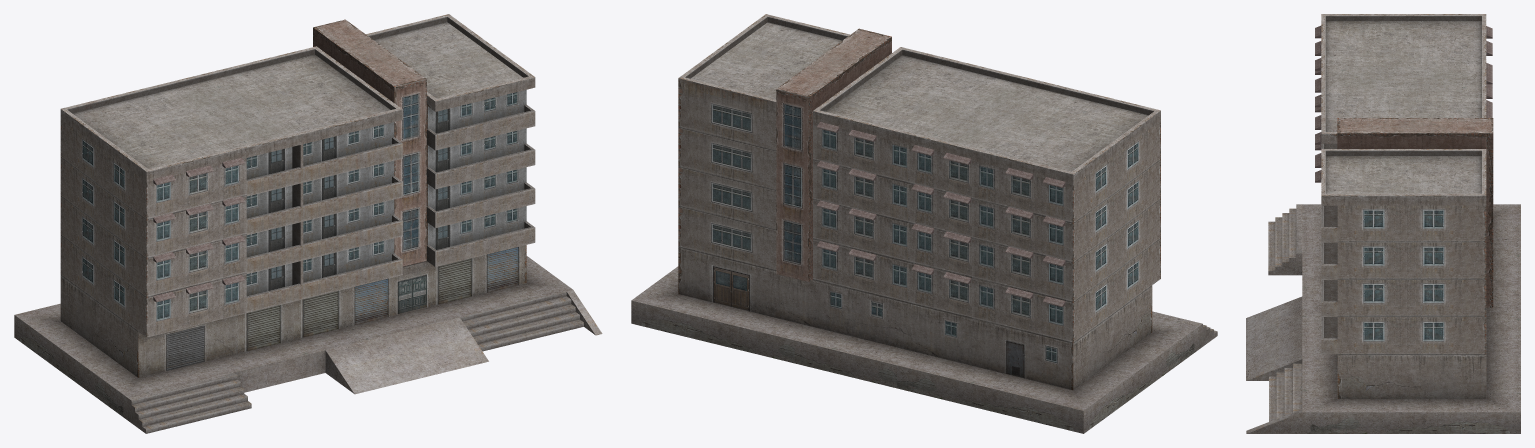
Rendered from buildings_24.FBX.
3 views of the same model, side by side, from view 1: azimuth 30°, elevation 25°; view 2: azimuth 150°, elevation 25°; view 3: azimuth 270°, elevation 25° (orthographic). The views are drawn at different scales.
Visible parts, largest first — view 1: Object001; view 2: Object001; view 3: Object001.
Boxes of the visible parts, <box> form: Object001: <box>14,14,602,433</box>; Object001: <box>631,14,1217,433</box>; Object001: <box>1246,14,1520,433</box>.
Size of the model in its own units: 4004 by 2235 by 2161.
1 material, 1 textured.
